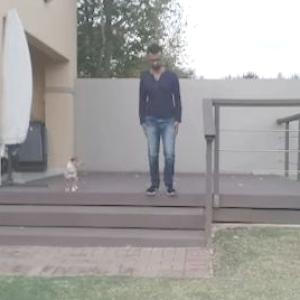follow: (146, 45, 184, 201)
